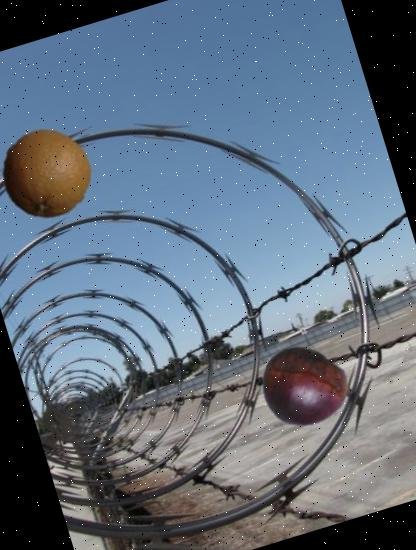Chestnut: (248, 334, 356, 441)
Orange: (0, 118, 102, 230)
